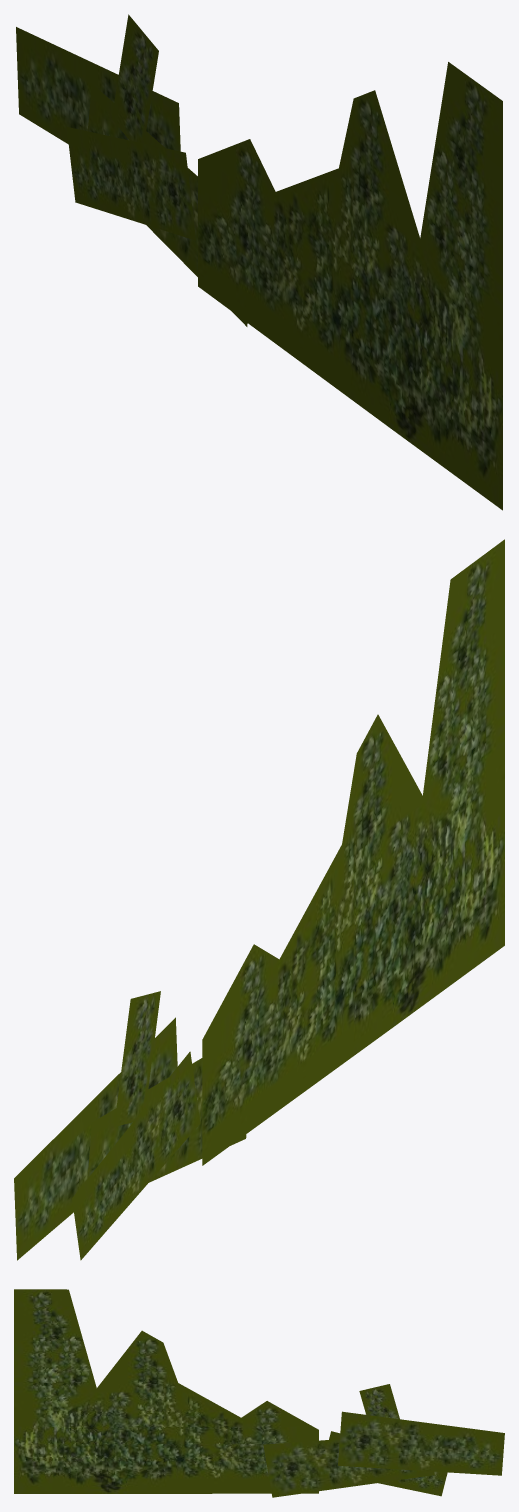
Rendered from prop_ivycornersingle01.glb.
3 renders of one model, top to bottom at view 1: azimuth 30°, elevation 25°; view 2: azimuth 150°, elevation 25°; view 3: azimuth 270°, elevation 25°, orthographic. The views are drawn at different scales.
Size of the model in its own units: 1.29 by 133 by 285.
Materials: 1 (1 with a texture image).
